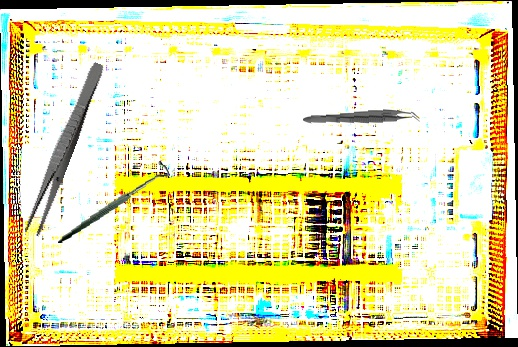Dressing Forceps: (22, 59, 107, 238)
Hook Surgical: (50, 160, 176, 243)
Tissue Forceps: (302, 106, 421, 131)
